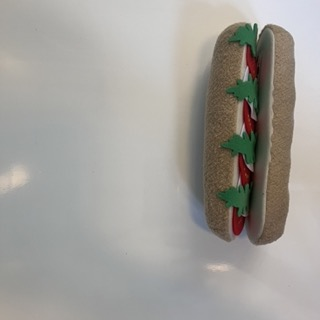sandwich: (208, 21, 292, 246)
